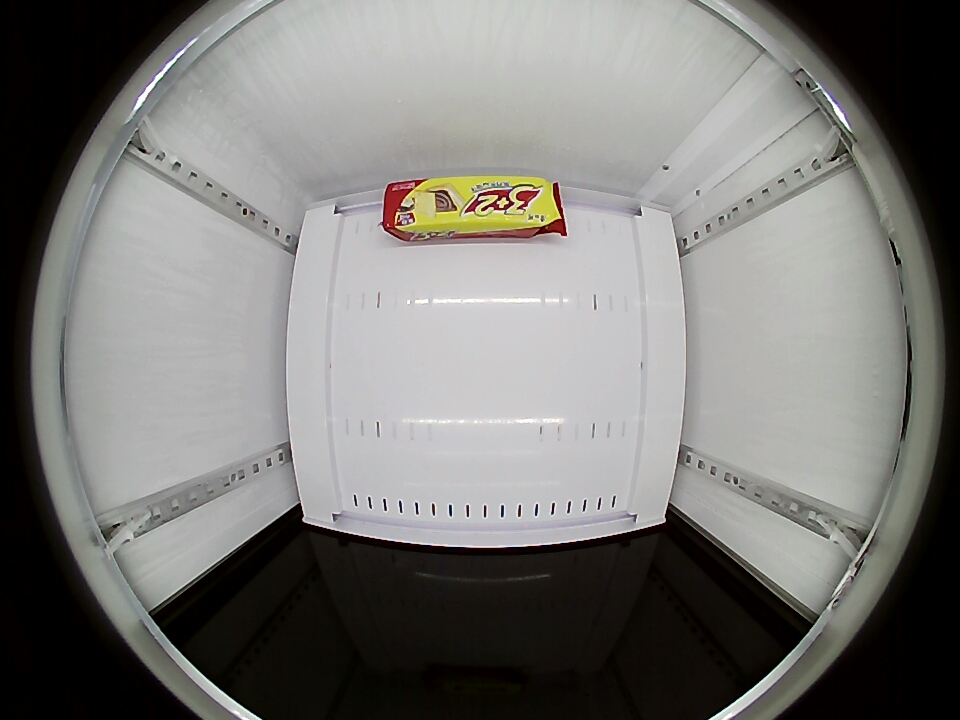3jia2: (381, 175, 566, 241)
